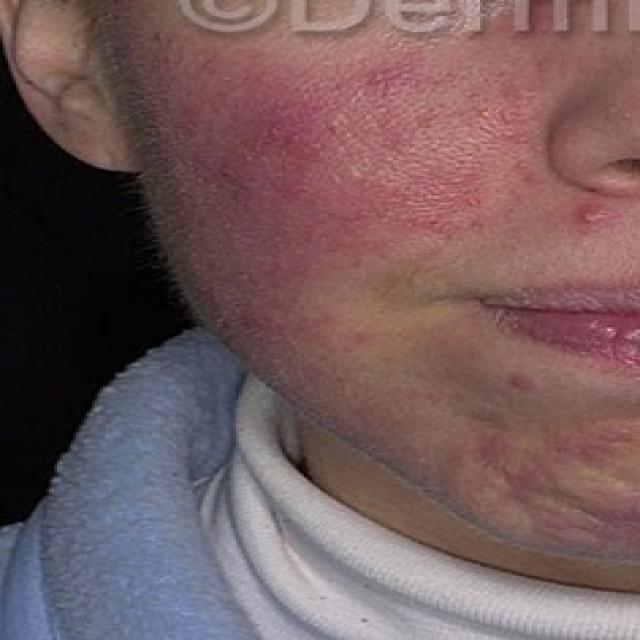Rosacea: (228, 70, 557, 256)
